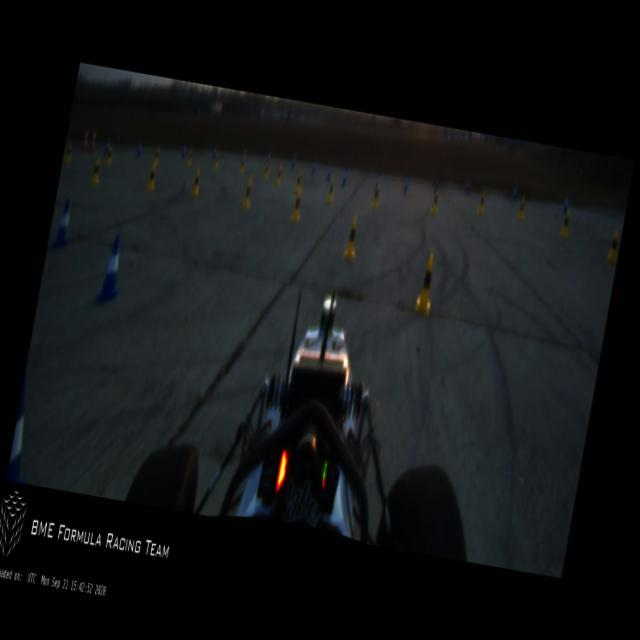blue_cone: (5, 366, 50, 484), (99, 230, 127, 296), (52, 198, 76, 248), (134, 138, 142, 159), (402, 173, 410, 192), (180, 141, 188, 160), (374, 170, 381, 190), (433, 173, 440, 192), (341, 167, 348, 185), (511, 185, 518, 202), (562, 196, 568, 214), (326, 163, 332, 180), (464, 179, 470, 193), (290, 156, 296, 168), (312, 160, 316, 175)
yellow_cone: (414, 250, 442, 312), (342, 214, 361, 258), (606, 230, 621, 264), (145, 159, 159, 192), (90, 154, 103, 185), (241, 178, 253, 210), (560, 210, 571, 238), (292, 191, 302, 221), (191, 170, 201, 198), (64, 138, 74, 164), (371, 184, 381, 209), (430, 188, 440, 213), (326, 178, 336, 202), (516, 196, 526, 220), (476, 190, 486, 214), (104, 144, 114, 166), (274, 163, 283, 186), (294, 171, 302, 194), (262, 159, 270, 181), (152, 148, 160, 167), (238, 155, 246, 173), (186, 148, 193, 167), (212, 153, 220, 169)
